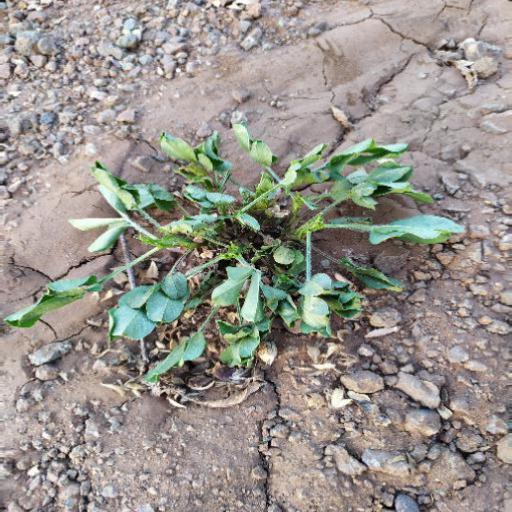weed: (38, 135, 464, 379)
